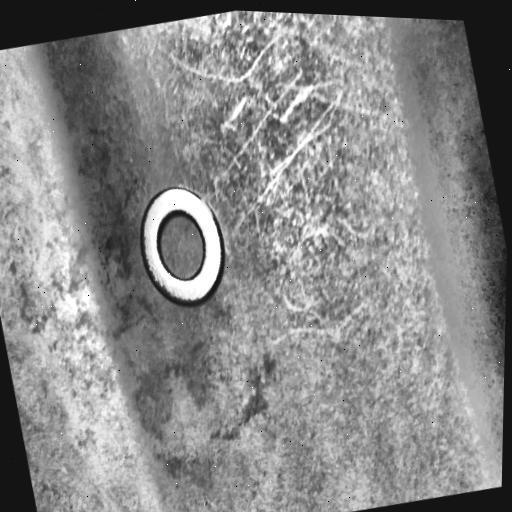Washer: (140, 186, 225, 306)
